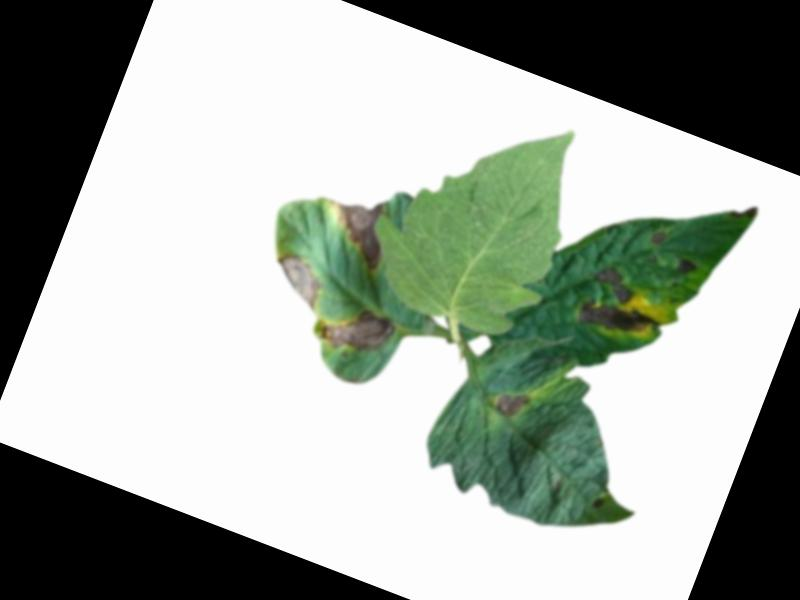Early_blight: (572, 260, 674, 351), (311, 184, 400, 272), (311, 291, 398, 365), (262, 248, 330, 314), (491, 382, 531, 422), (673, 253, 699, 277), (649, 227, 666, 246)
healthy: (345, 76, 602, 366), (590, 493, 605, 508)
